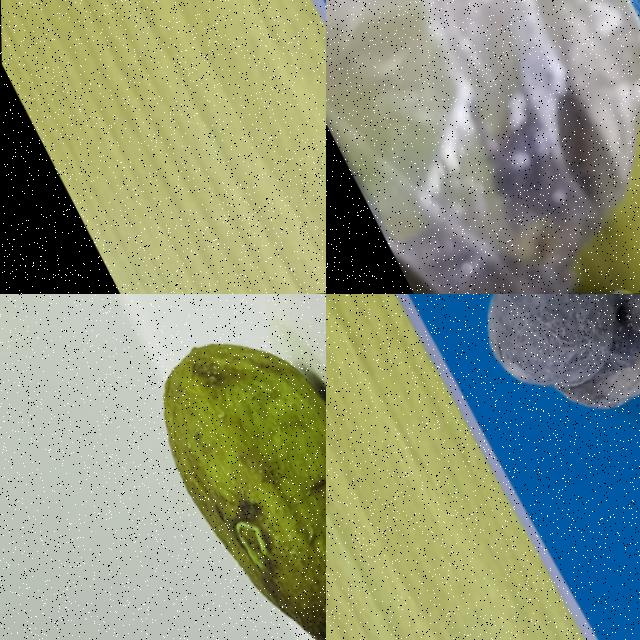Agglomerated_cocoabeans: (402, 294, 639, 512)
Fine_cocoabeans: (62, 294, 325, 639)
